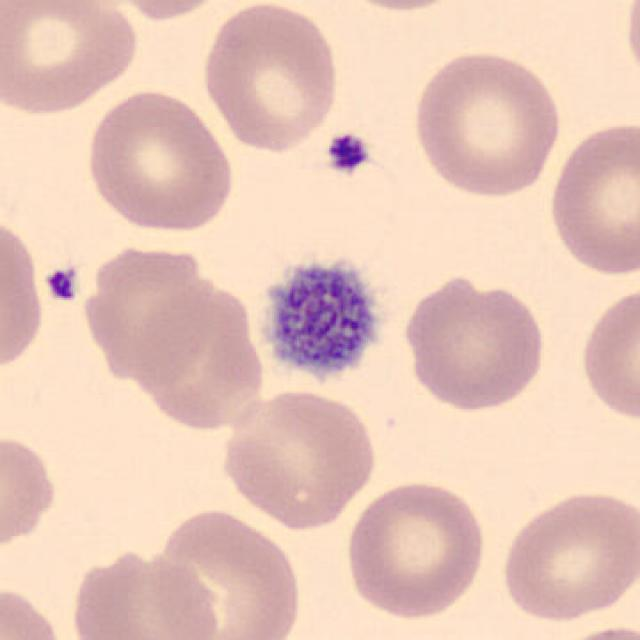Platelets: (252, 252, 386, 388), (322, 129, 372, 176), (41, 262, 82, 306)
RBC: (407, 44, 565, 201), (215, 384, 382, 531), (82, 85, 238, 236), (74, 244, 226, 395), (197, 0, 345, 155), (341, 476, 491, 622), (398, 272, 550, 416), (144, 502, 304, 638), (133, 288, 265, 442), (496, 487, 636, 624), (0, 0, 142, 120), (544, 117, 638, 280), (66, 545, 222, 640), (576, 280, 638, 427), (0, 428, 62, 562), (0, 210, 48, 379), (0, 580, 71, 640), (98, 0, 236, 23), (323, 0, 473, 14), (620, 2, 640, 97), (546, 622, 638, 640)
